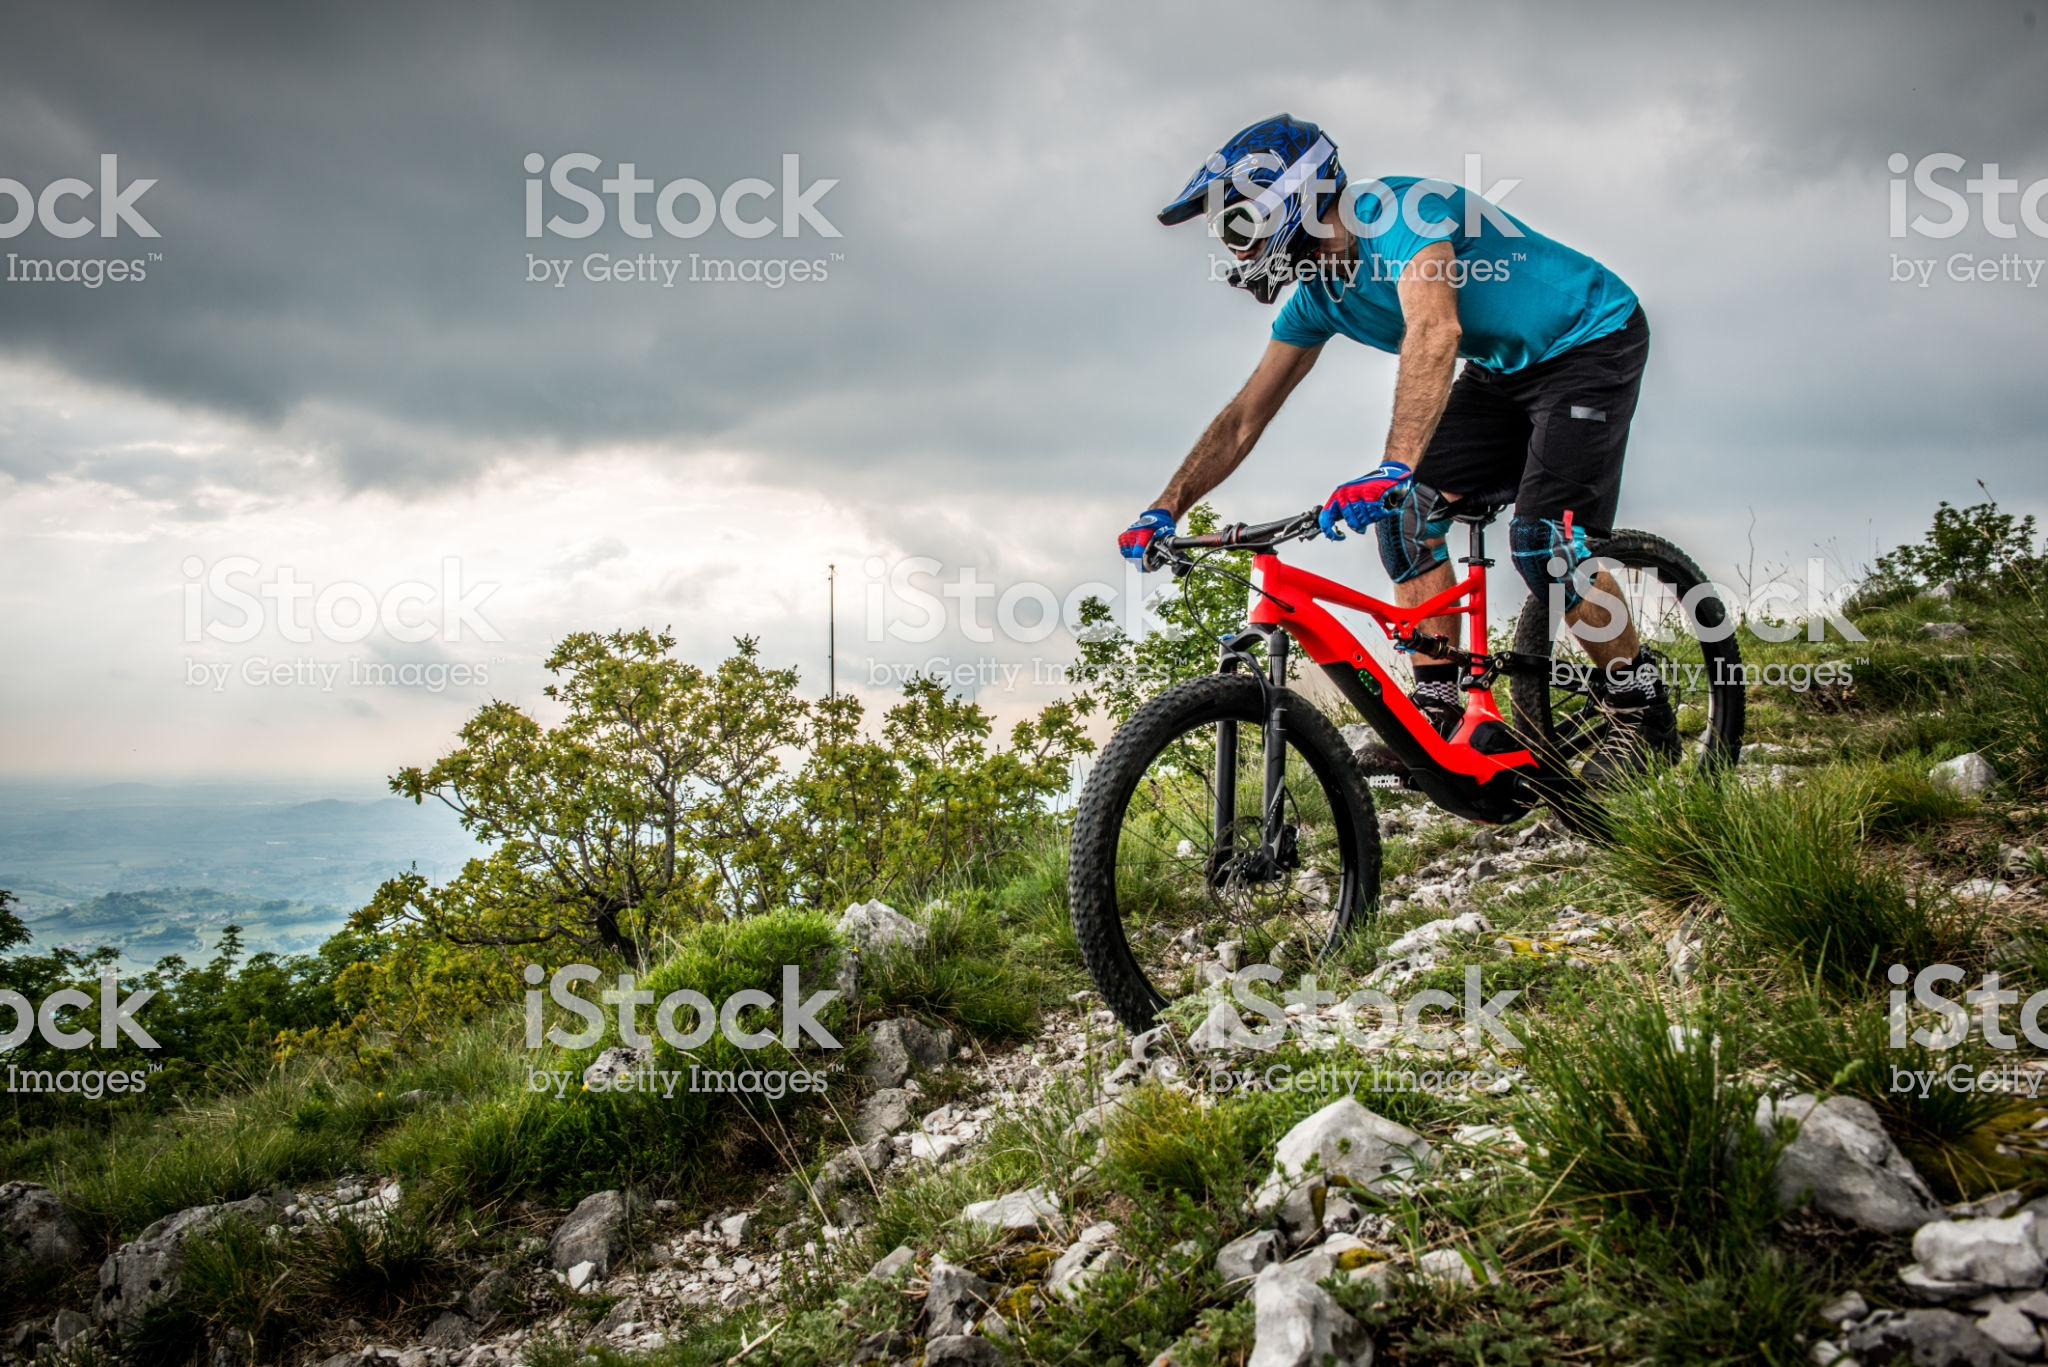helmet: (1164, 107, 1350, 313)
